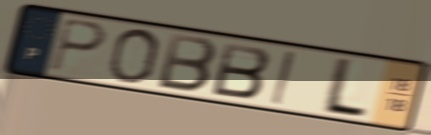B: (155, 30, 220, 95), (209, 40, 274, 101)
I: (268, 48, 297, 108)
L: (316, 55, 372, 121)
O: (105, 27, 163, 86)
P: (48, 16, 109, 74)
